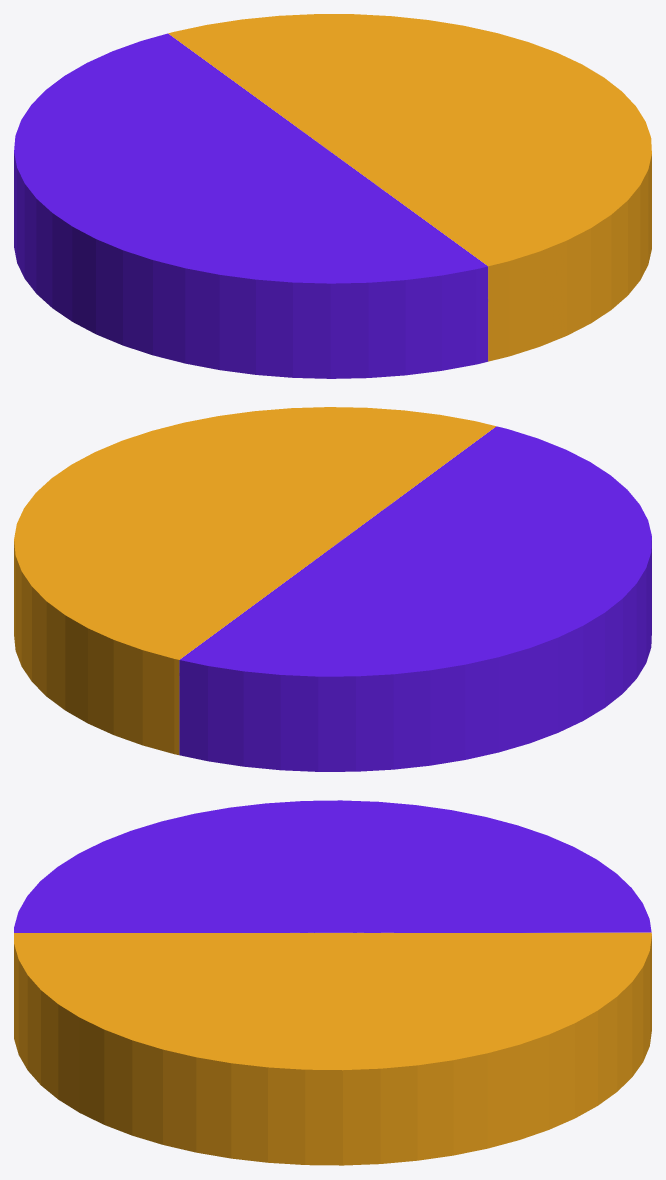
The model's file is circle pot mold.fbx.
3 renders of one model, top to bottom at view 1: azimuth 30°, elevation 25°; view 2: azimuth 150°, elevation 25°; view 3: azimuth 270°, elevation 25°, orthographic.
Parts seen in each view (by area): view 1: circle pot mold; view 2: circle pot mold; view 3: circle pot mold.
Part boxes in pixels (box(x1,y1,x2,y2)): circle pot mold: box(14, 14, 651, 378); circle pot mold: box(14, 407, 651, 771); circle pot mold: box(14, 800, 651, 1165).
Size of the model in its own units: 589 by 97.13 by 589.
1 material, 1 textured.
